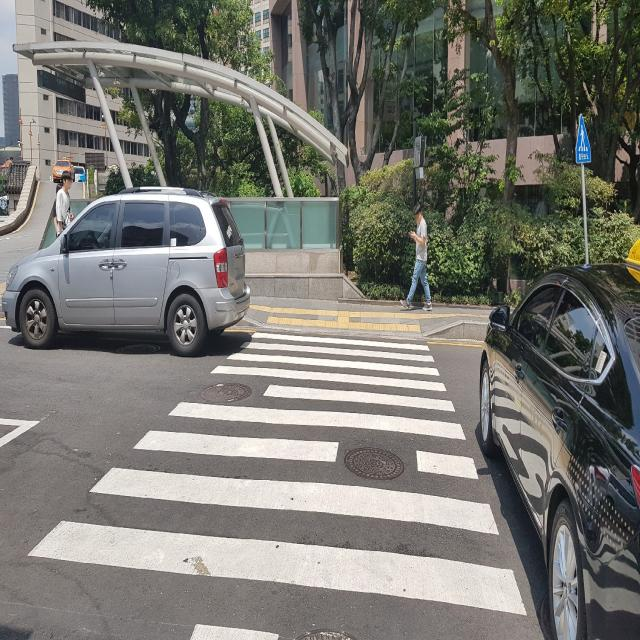횡단보도: (25, 325, 530, 640)
